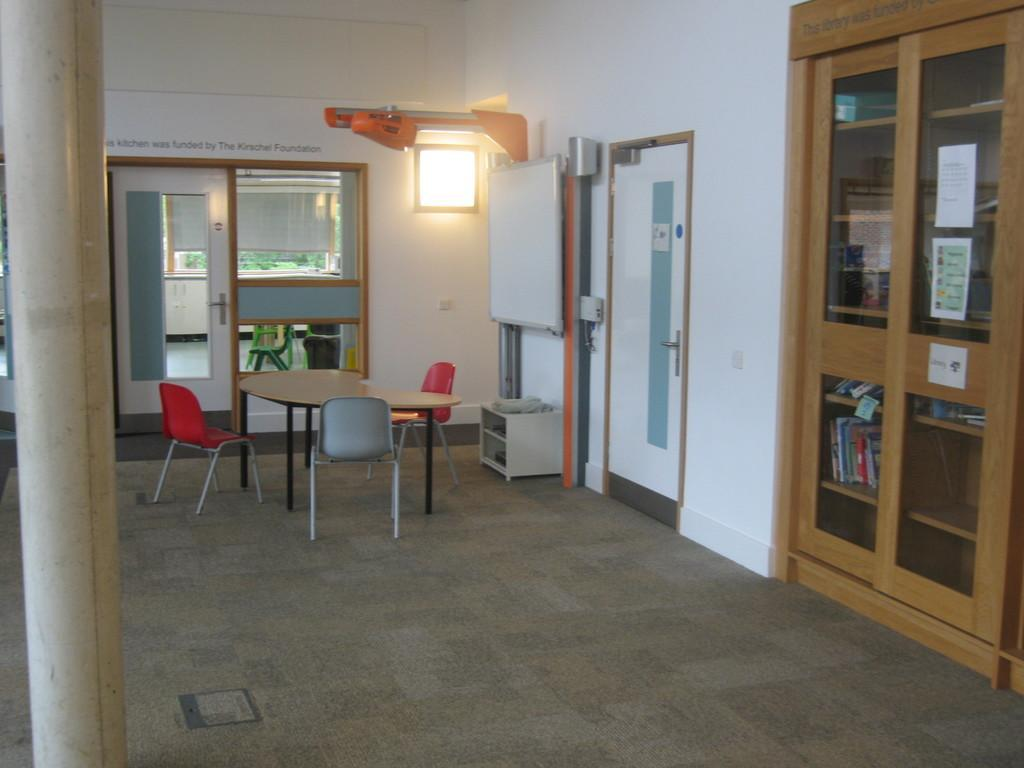door: (116, 168, 226, 404), (614, 154, 678, 492)
handle: (662, 330, 684, 372), (210, 292, 230, 323)
